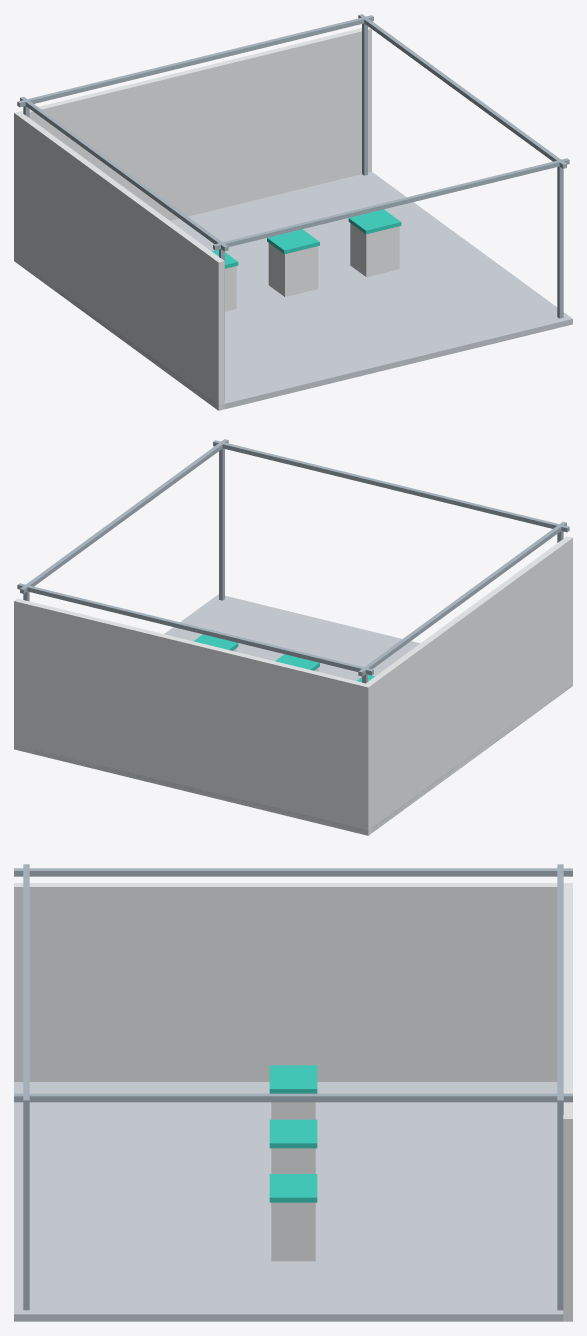
3 renders of one model, top to bottom at view 1: azimuth 30°, elevation 25°; view 2: azimuth 150°, elevation 25°; view 3: azimuth 270°, elevation 25°, orthographic. The views are drawn at different scales.
Parts seen in each view (by area): view 1: Exhibition Booth Concept; view 2: Exhibition Booth Concept; view 3: Exhibition Booth Concept.
Boxes of the visible parts, x1,y1,x2,y2 form: Exhibition Booth Concept: [14, 14, 572, 410]; Exhibition Booth Concept: [14, 439, 572, 835]; Exhibition Booth Concept: [14, 864, 572, 1321].
Bounding box in the file's own units: 8 × 3.49 × 8.
